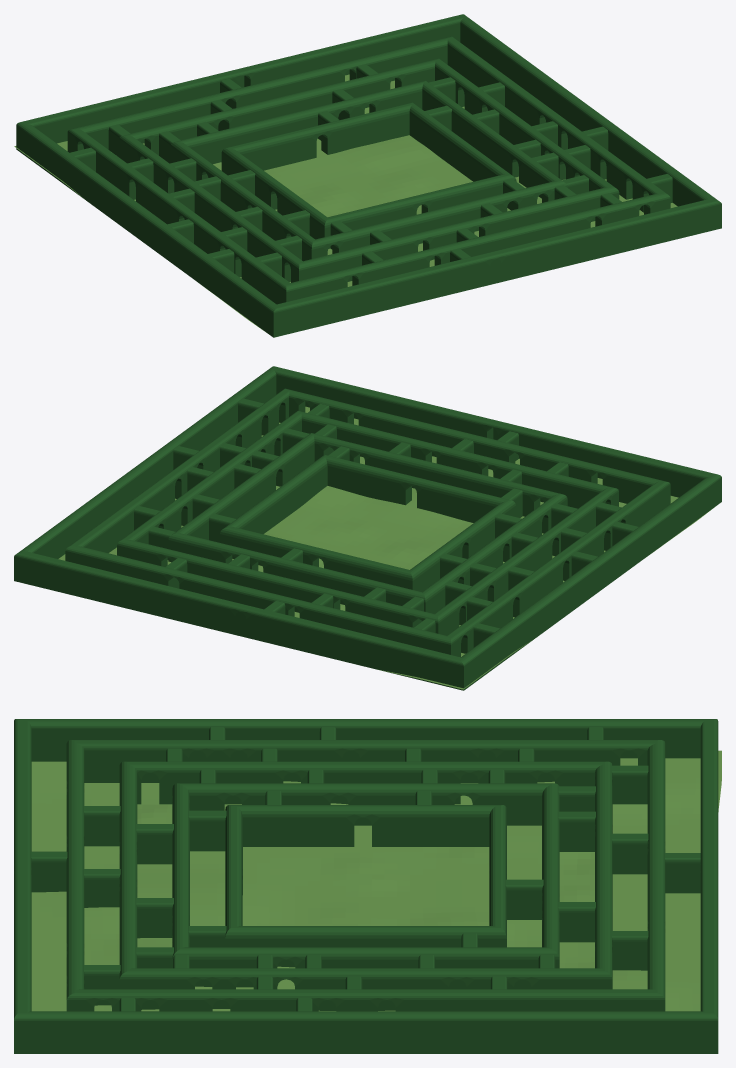
File: Maze 14.fbx
The picture shows the model from 3 angles, top to bottom: view 1: azimuth 30°, elevation 25°; view 2: azimuth 150°, elevation 25°; view 3: azimuth 270°, elevation 25°; orthographic projection. The views are drawn at different scales.
Parts seen in each view (by area): view 1: Walls 1.014, Walls 2.014, Walls 3.014, Walls 4.015, Walls 5.014, Floor.015; view 2: Walls 1.014, Walls 2.014, Walls 3.014, Walls 4.015, Walls 5.014, Floor.015; view 3: Walls 1.014, Floor.015, Walls 2.014, Walls 3.014, Walls 4.015, Walls 5.014, Bush Blocker.419, Bush Blocker.427, Bush Blocker.415, Bush Blocker.429, Bush Blocker.425, Bush Blocker.418 (+11 smaller).
Boxes of the visible parts, x1,y1,x2,y2 form: Walls 1.014: (16, 14, 721, 337); Walls 2.014: (67, 36, 670, 304); Walls 3.014: (119, 58, 619, 282); Walls 4.015: (170, 80, 567, 261); Walls 5.014: (221, 102, 516, 248); Floor.015: (14, 74, 677, 331); Walls 1.014: (14, 366, 721, 690); Walls 2.014: (65, 388, 670, 657); Walls 3.014: (117, 411, 618, 635); Walls 4.015: (168, 433, 567, 613); Walls 5.014: (220, 455, 515, 591); Floor.015: (58, 406, 714, 689); Walls 1.014: (14, 719, 718, 1053); Floor.015: (31, 750, 721, 1011); Walls 2.014: (66, 740, 665, 1011); Walls 3.014: (119, 761, 612, 1010); Walls 4.015: (172, 783, 559, 989); Walls 5.014: (225, 805, 506, 967); Bush Blocker.419: (188, 810, 226, 851); Bush Blocker.427: (611, 833, 648, 874); Bush Blocker.415: (31, 851, 67, 892); Bush Blocker.429: (558, 811, 595, 851); Bush Blocker.425: (558, 902, 595, 942); Bush Blocker.418: (136, 824, 173, 864).
Bounding box in the file's own units: 6009 × 368 × 5992.
